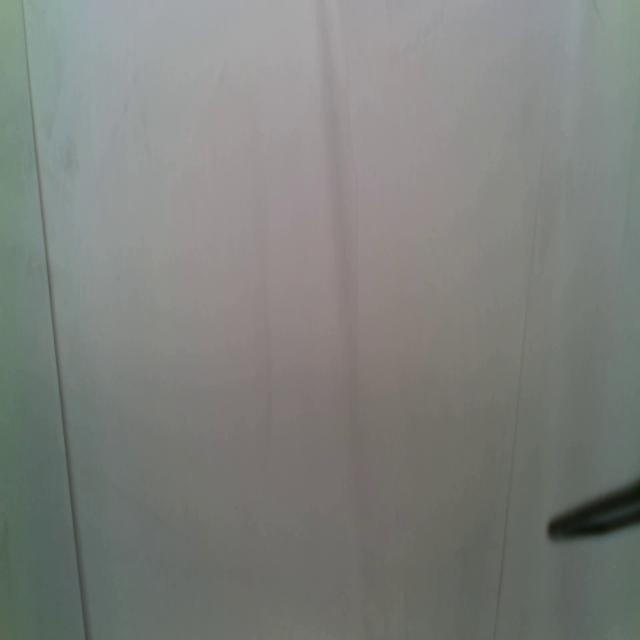crease: (20, 0, 88, 640), (492, 57, 554, 639)
